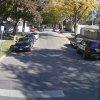Car: (8, 27, 39, 53)
